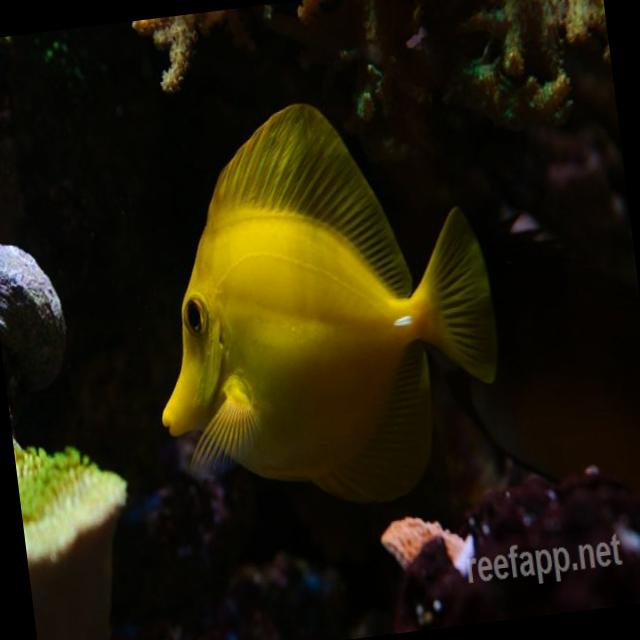TangFish: (120, 80, 518, 532)
